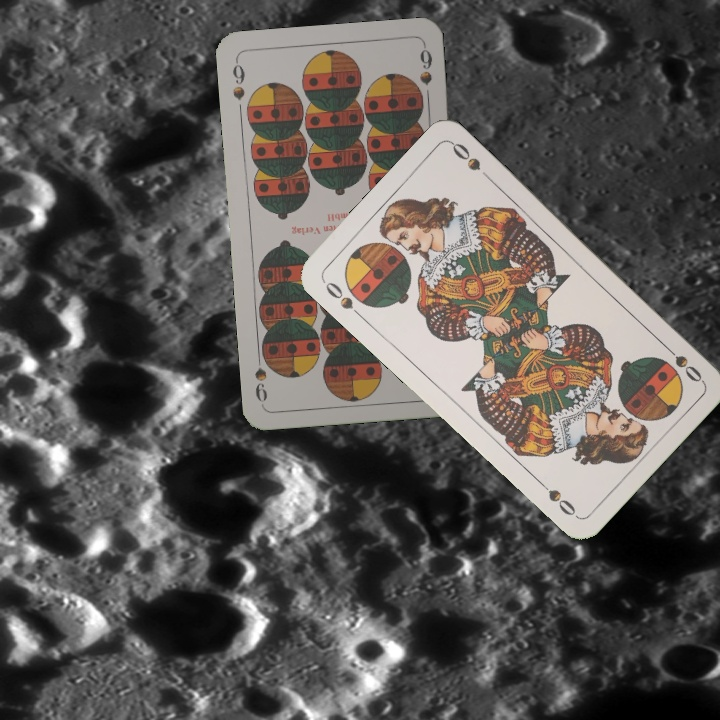S9: (228, 56, 248, 103)
SO: (658, 339, 705, 385), (319, 277, 366, 322)
